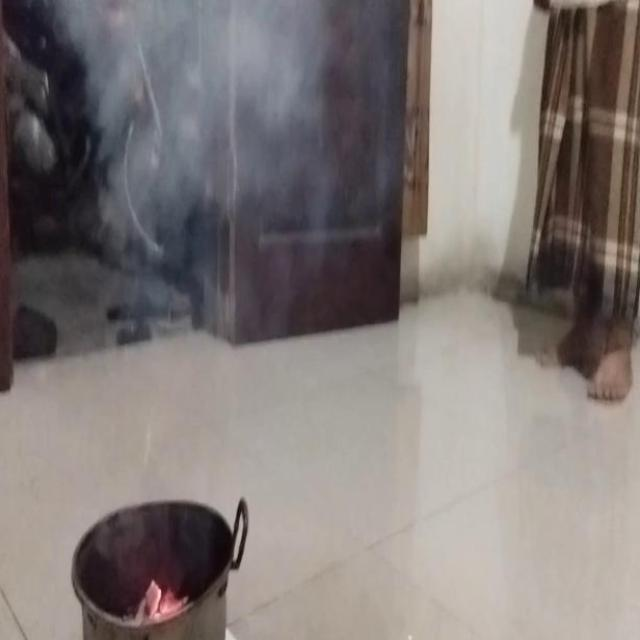fire: (74, 0, 427, 243)
